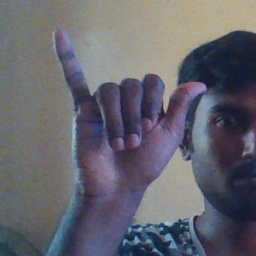J: (52, 27, 207, 190)
